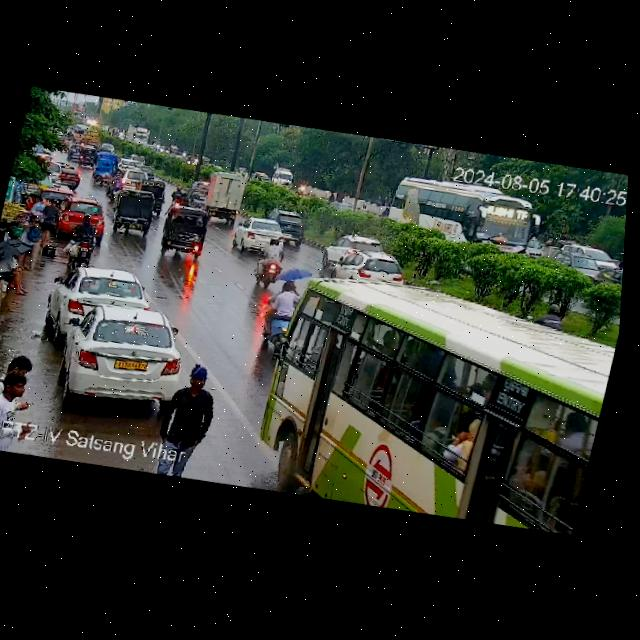bus: (232, 243, 624, 526), (378, 162, 550, 263)
car: (51, 295, 196, 412), (48, 258, 152, 334), (324, 243, 418, 290), (157, 202, 218, 260), (554, 237, 616, 285), (109, 186, 161, 236), (51, 194, 107, 238), (232, 215, 290, 257), (323, 229, 380, 270), (258, 204, 311, 246), (133, 177, 168, 216), (109, 165, 139, 191), (52, 165, 83, 187), (116, 156, 142, 170)
motorcycle: (259, 274, 302, 353), (252, 233, 290, 287), (64, 209, 105, 256), (66, 142, 98, 169), (105, 171, 122, 200), (171, 185, 192, 207)
person: (165, 365, 219, 455), (0, 348, 53, 423), (22, 194, 58, 248), (0, 253, 34, 293), (0, 315, 2, 394)
truck: (190, 166, 250, 226)
